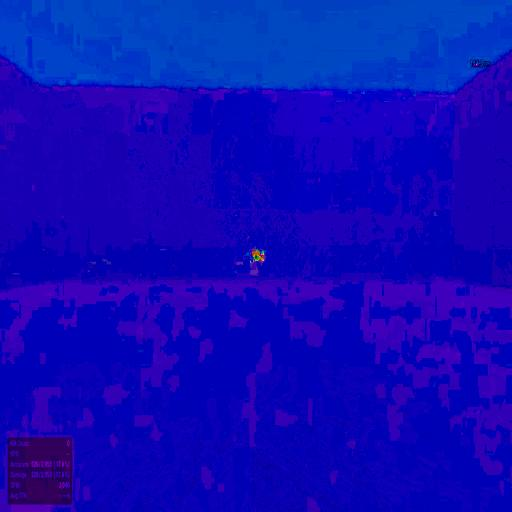Crosshair: (255, 254, 257, 258)
Target: (255, 255, 257, 259)
